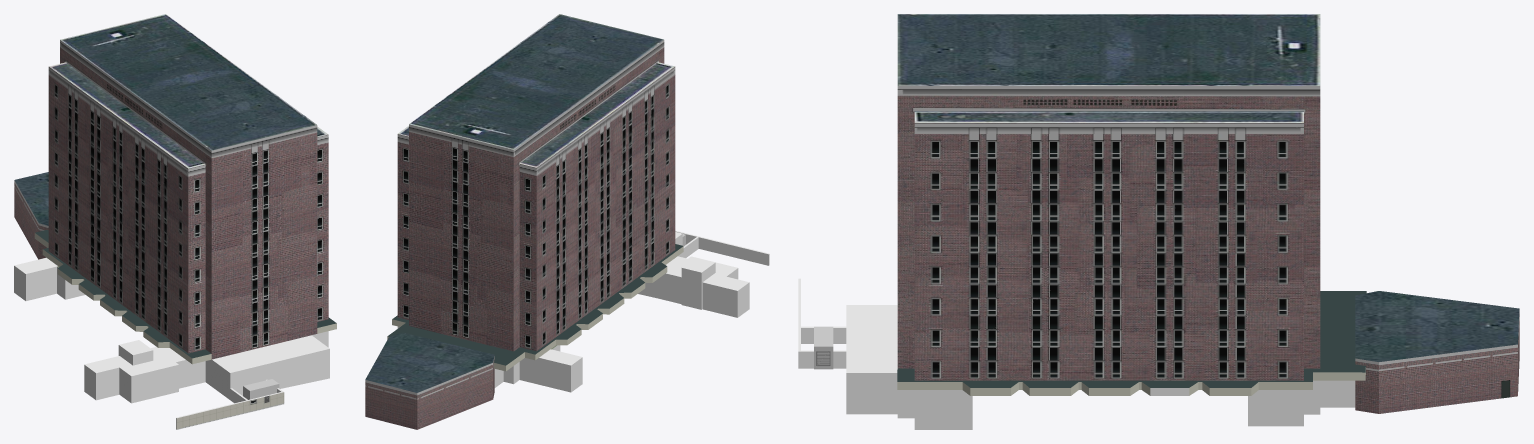
File: MATH.fbx
3 views of the same model, side by side, from view 1: azimuth 30°, elevation 25°; view 2: azimuth 150°, elevation 25°; view 3: azimuth 270°, elevation 25° (orthographic). The views are drawn at different scales.
Visible parts, largest first — view 1: Model; view 2: Model; view 3: Model.
Part boxes in pixels (box(x1,y1,x2,y2)): Model: box(14, 14, 336, 429); Model: box(365, 14, 769, 429); Model: box(798, 14, 1519, 429).
Bounding box in the file's own units: 1518 × 1476 × 2901.
